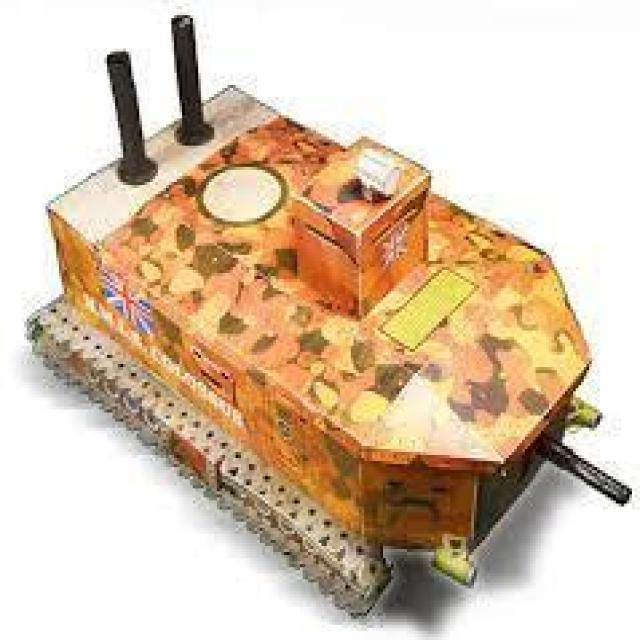Tanks: (38, 20, 634, 608)
